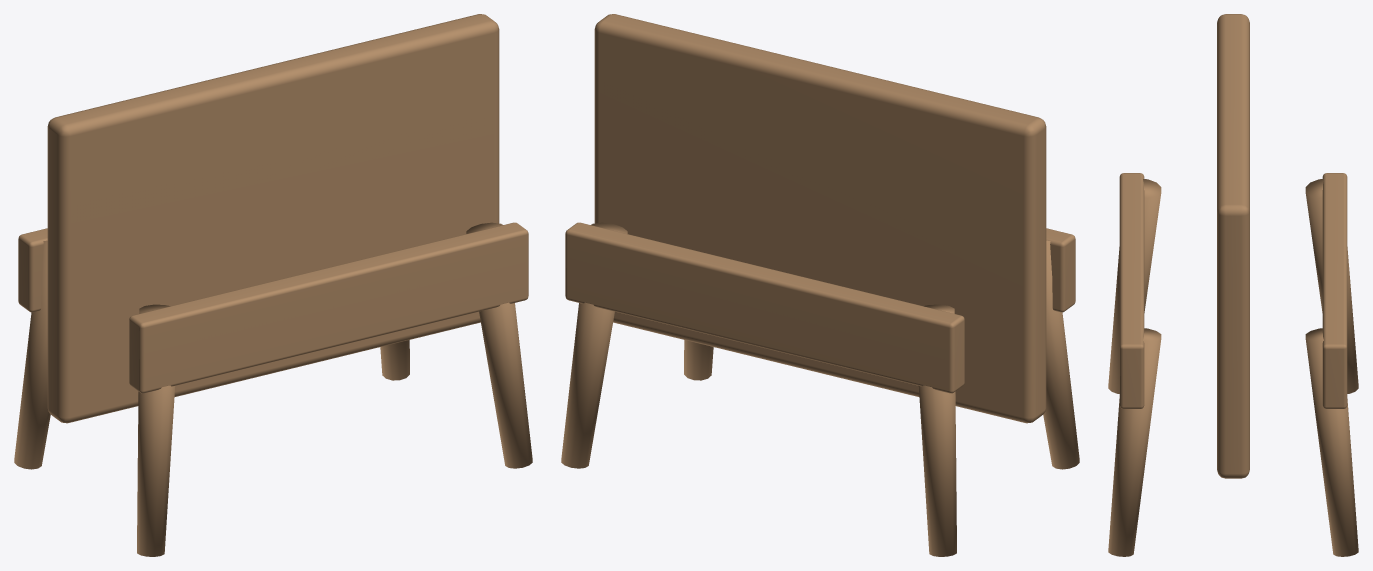
The model's file is atelier-children-s-desk.glb.
3 renders of one model, left to right at view 1: azimuth 30°, elevation 25°; view 2: azimuth 150°, elevation 25°; view 3: azimuth 270°, elevation 25°, orthographic. The views are drawn at different scales.
Parts seen in each view (by area): view 1: legs.183; view 2: legs.183; view 3: legs.183.
Boxes of the visible parts, x1,y1,x2,y2 form: legs.183: (14, 14, 532, 556); legs.183: (561, 14, 1079, 556); legs.183: (1108, 14, 1358, 556).
Bounding box in the file's own units: 0.85 × 0.7282 × 0.4562.
